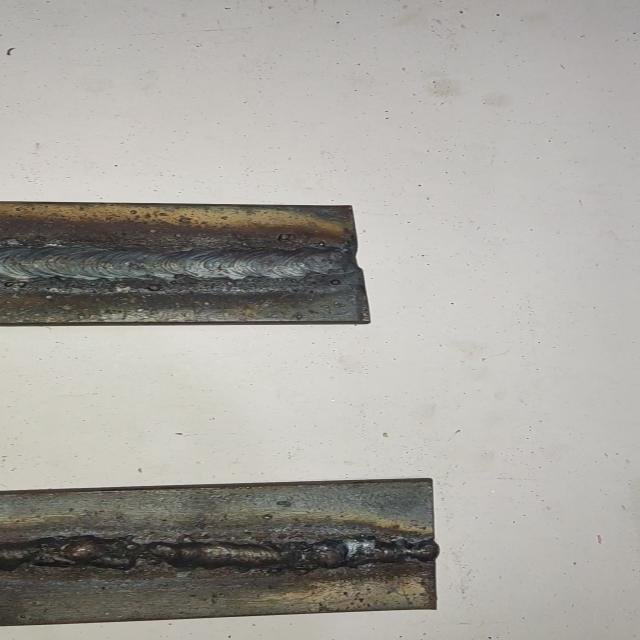Bad Weld: (0, 532, 433, 574)
Defect: (0, 529, 198, 580), (260, 525, 391, 581)
Good Weld: (0, 243, 363, 281)
